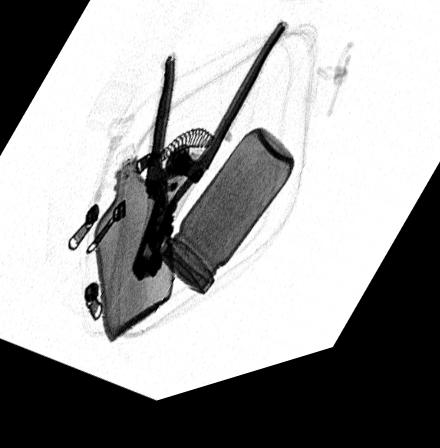Pliers: (127, 36, 290, 292)
